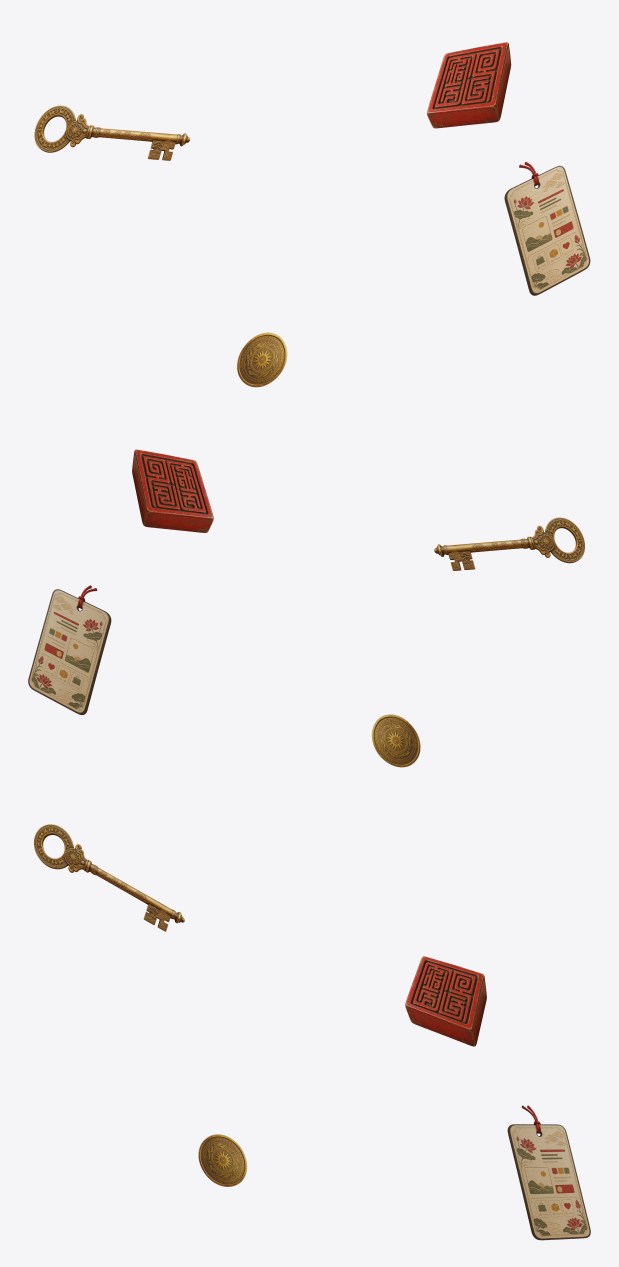
Rendered from EW26_Agentic_Props_251209v5_compressed-optimized-9756a898a1.glb.
The picture shows the model from 3 angles, top to bottom: view 1: azimuth 30°, elevation 25°; view 2: azimuth 150°, elevation 25°; view 3: azimuth 330°, elevation 25°; orthographic projection. The views are drawn at different scales.
Parts seen in each view (by area): view 1: Vietfolk_agentic_tag, Vietfolk_agentic_stamp, Vietfolk_agentic_key, Vietfolk_agentic_coin; view 2: Vietfolk_agentic_tag, Vietfolk_agentic_stamp, Vietfolk_agentic_key, Vietfolk_agentic_coin; view 3: Vietfolk_agentic_tag, Vietfolk_agentic_stamp, Vietfolk_agentic_key, Vietfolk_agentic_coin.
Boxes of the visible parts, x1,y1,x2,y2 form: Vietfolk_agentic_tag: [504, 162, 590, 295]; Vietfolk_agentic_stamp: [427, 42, 511, 128]; Vietfolk_agentic_key: [34, 105, 190, 160]; Vietfolk_agentic_coin: [237, 332, 287, 387]; Vietfolk_agentic_tag: [28, 585, 111, 714]; Vietfolk_agentic_stamp: [132, 449, 213, 532]; Vietfolk_agentic_key: [434, 517, 584, 570]; Vietfolk_agentic_coin: [371, 714, 420, 767]; Vietfolk_agentic_tag: [507, 1105, 590, 1240]; Vietfolk_agentic_stamp: [405, 956, 486, 1046]; Vietfolk_agentic_key: [34, 824, 184, 931]; Vietfolk_agentic_coin: [198, 1134, 247, 1186].
Size of the model in its own units: 2.97 by 1.64 by 0.22.
Materials: 4 (4 with a texture image).
